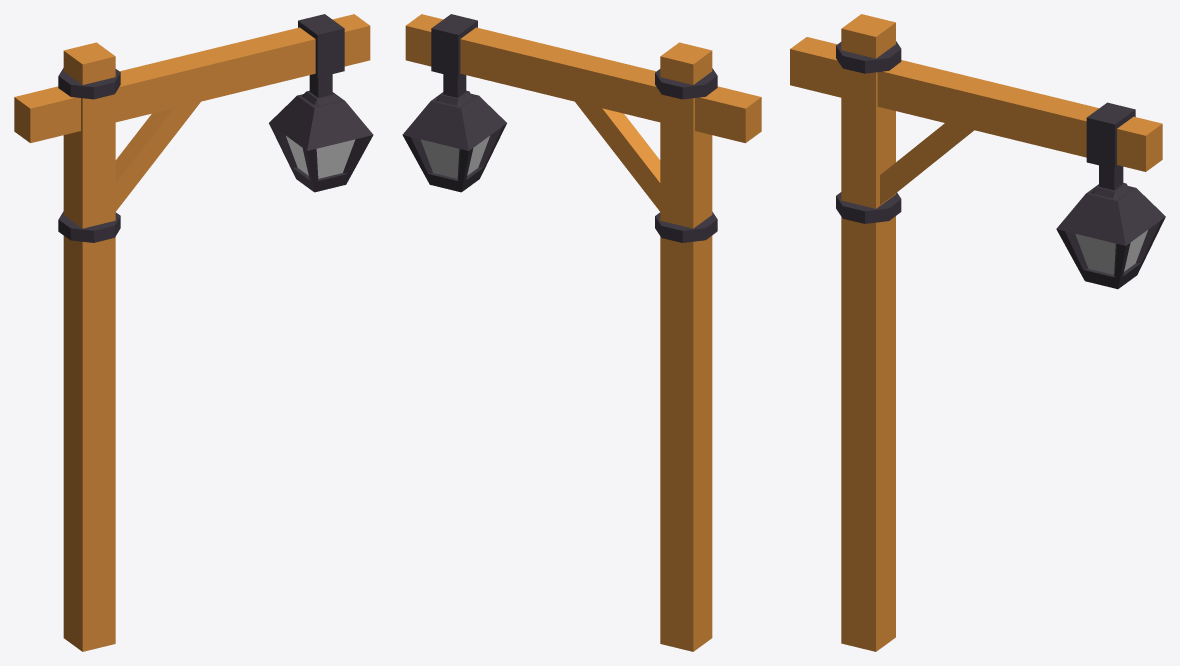
Rendered from Street_Lamp.fbx.
3 renders of one model, left to right at view 1: azimuth 30°, elevation 25°; view 2: azimuth 150°, elevation 25°; view 3: azimuth 330°, elevation 25°, orthographic. The views are drawn at different scales.
Visible parts, largest first — view 1: Lamp_Post_Leg, Lamp_Post_Arm, Lamp, Lamp_Post_Support; view 2: Lamp_Post_Leg, Lamp_Post_Arm, Lamp, Lamp_Post_Support; view 3: Lamp_Post_Leg, Lamp_Post_Arm, Lamp, Lamp_Post_Support.
Part boxes in pixels (x1,y1,x2,y2): Lamp_Post_Leg: (58,42,120,651); Lamp_Post_Arm: (14,14,370,143); Lamp: (269,90,373,192); Lamp_Post_Support: (115,101,200,211); Lamp_Post_Leg: (655,42,717,651); Lamp_Post_Arm: (405,14,761,143); Lamp: (402,90,506,192); Lamp_Post_Support: (575,101,660,211); Lamp_Post_Leg: (836,14,901,651); Lamp_Post_Arm: (790,37,1162,190); Lamp: (1056,183,1165,289); Lamp_Post_Support: (880,123,973,204).
Size of the model in its own units: 273 by 451 by 53.33.
